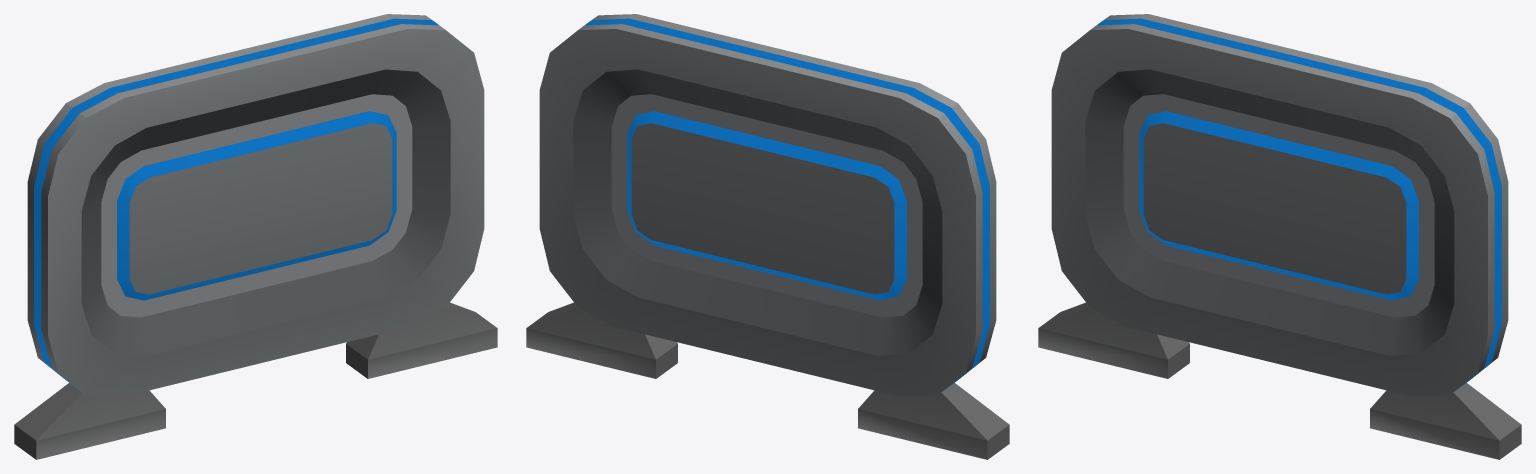
Rendered from Fence_type_B_013.glb.
3 views of the same model, side by side, from view 1: azimuth 30°, elevation 25°; view 2: azimuth 150°, elevation 25°; view 3: azimuth 330°, elevation 25° (orthographic).
Parts seen in each view (by area): view 1: Fence_type_B_013; view 2: Fence_type_B_013; view 3: Fence_type_B_013.
Boxes of the visible parts, x1,y1,x2,y2 form: Fence_type_B_013: (14, 14, 497, 459); Fence_type_B_013: (526, 14, 1009, 459); Fence_type_B_013: (1038, 14, 1521, 459).
Size of the model in its own units: 2.01 by 1.41 by 0.1653.
2 materials, 2 textured.
